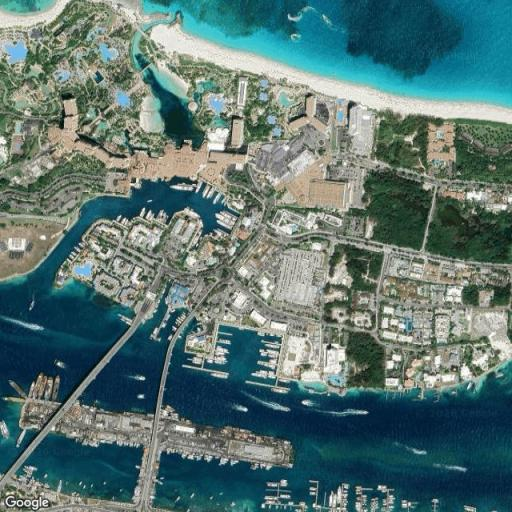ship: (235, 383, 294, 419), (2, 312, 49, 338), (329, 484, 347, 511), (226, 402, 255, 418), (25, 290, 40, 319), (216, 211, 236, 229), (114, 309, 132, 328), (382, 486, 395, 511), (9, 380, 27, 398), (34, 372, 46, 398), (216, 210, 236, 225), (30, 373, 42, 398), (189, 229, 202, 249), (340, 484, 349, 510), (38, 375, 47, 399), (183, 207, 201, 219), (51, 375, 59, 401), (221, 210, 237, 223), (44, 377, 53, 399), (260, 349, 279, 359), (217, 217, 231, 230), (16, 429, 26, 447), (24, 466, 37, 479), (170, 184, 194, 191), (401, 500, 416, 511), (0, 420, 9, 438), (257, 360, 277, 368), (156, 210, 168, 223), (214, 346, 228, 357), (213, 228, 227, 238), (252, 370, 268, 378), (214, 350, 228, 359), (28, 380, 35, 398), (215, 345, 228, 354), (263, 341, 279, 348), (193, 324, 204, 334), (267, 349, 279, 358), (174, 316, 183, 328), (70, 248, 79, 260), (329, 492, 336, 507), (202, 184, 210, 197), (214, 356, 227, 364), (272, 387, 289, 393), (144, 210, 154, 220), (213, 192, 222, 203), (301, 400, 315, 407), (371, 497, 378, 511), (207, 187, 215, 199), (211, 372, 227, 378), (216, 345, 228, 353), (342, 484, 349, 497), (268, 351, 279, 359), (55, 360, 66, 368), (196, 181, 203, 193), (217, 338, 231, 344), (432, 499, 439, 511), (134, 374, 146, 381), (337, 388, 347, 396), (347, 410, 367, 414), (178, 313, 186, 323), (176, 313, 183, 324), (280, 492, 291, 499), (164, 310, 171, 321), (192, 356, 202, 363), (131, 375, 145, 380), (57, 480, 62, 493), (220, 457, 228, 465), (401, 500, 409, 508), (309, 486, 316, 495), (251, 463, 260, 470), (161, 320, 168, 329), (257, 360, 267, 366), (267, 482, 279, 487), (264, 496, 278, 500), (140, 208, 146, 217), (221, 196, 227, 205), (268, 371, 275, 378), (260, 349, 267, 356), (280, 480, 287, 487), (204, 456, 212, 462), (198, 220, 204, 228), (256, 331, 264, 337), (78, 241, 84, 248), (137, 394, 145, 399), (194, 455, 202, 460), (116, 216, 122, 222), (264, 500, 276, 503), (206, 358, 213, 363), (251, 372, 259, 376), (172, 325, 176, 332), (269, 334, 276, 338), (190, 493, 195, 498), (111, 496, 116, 501), (157, 480, 163, 484), (168, 335, 172, 340), (136, 465, 140, 470), (362, 494, 368, 497), (147, 200, 152, 203), (79, 481, 82, 485), (362, 497, 367, 499), (277, 335, 282, 337), (104, 481, 106, 485)
